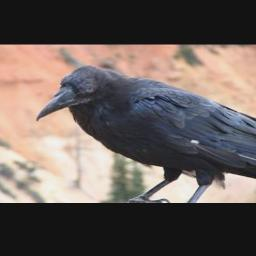Crow: (34, 61, 254, 202)
